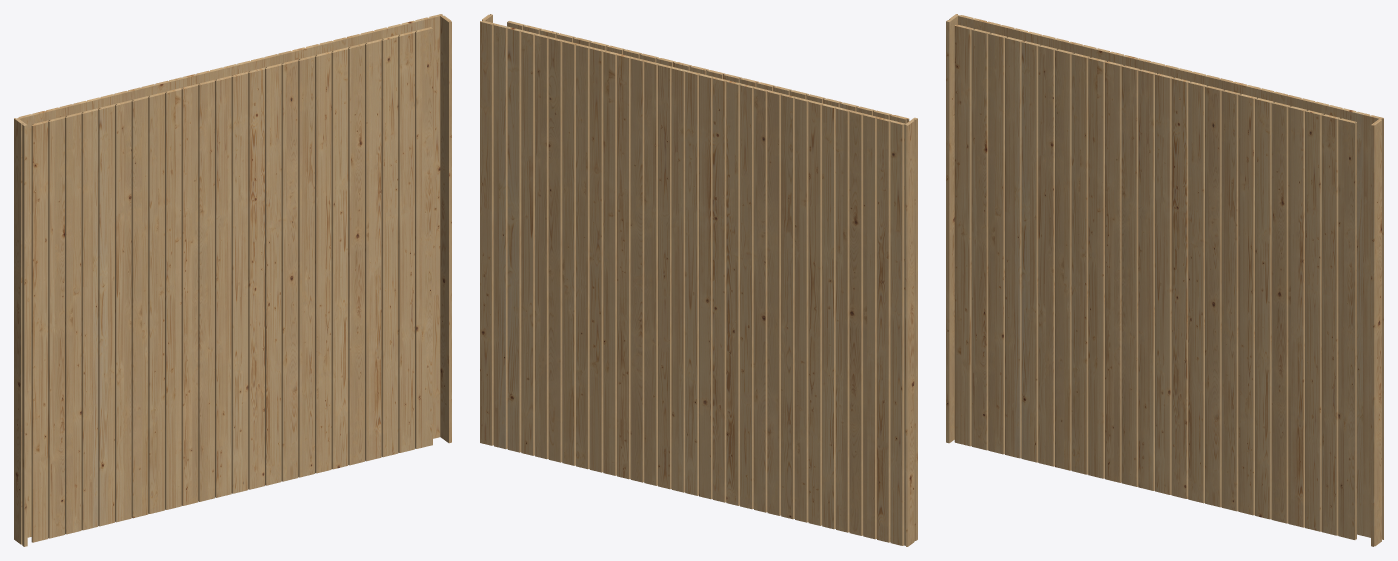
Rendered from Roundy_Sein_Tagumine.glb.
The picture shows the model from 3 angles, left to right: view 1: azimuth 30°, elevation 25°; view 2: azimuth 150°, elevation 25°; view 3: azimuth 330°, elevation 25°; orthographic projection.
Parts seen in each view (by area): view 1: Rectangle835, Rectangle834; view 2: Rectangle834, Rectangle835; view 3: Rectangle835, Rectangle834.
Part boxes in pixels (x1,y1,x2,y2): Rectangle835: (31, 27, 432, 542); Rectangle834: (14, 14, 451, 546); Rectangle834: (480, 14, 917, 546); Rectangle835: (507, 21, 909, 123); Rectangle835: (954, 25, 1356, 539); Rectangle834: (946, 14, 1383, 546).
Size of the model in its own units: 2.26 by 2.12 by 0.0962.
Materials: 1 (1 with a texture image).
